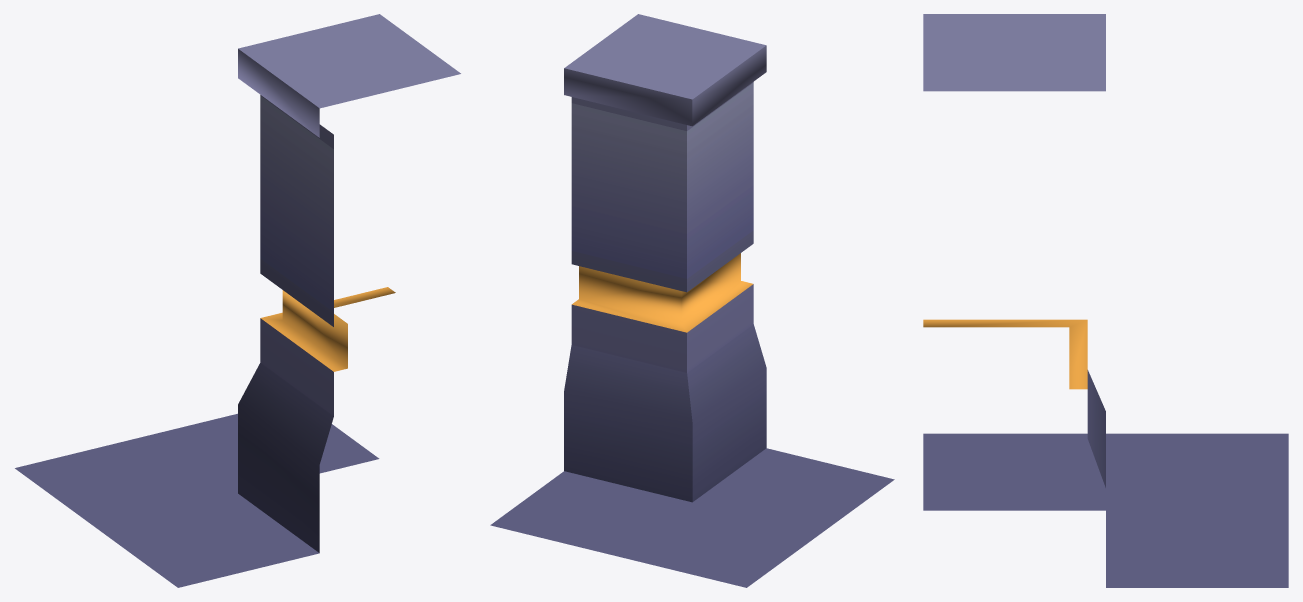
File: kenney-conveyor-structure-corner-outer.glb
The picture shows the model from 3 angles, left to right: view 1: azimuth 30°, elevation 25°; view 2: azimuth 150°, elevation 25°; view 3: azimuth 270°, elevation 25°; orthographic projection. The views are drawn at different scales.
Visible parts, largest first — view 1: structure-corner-outer; view 2: structure-corner-outer; view 3: structure-corner-outer.
Boxes of the visible parts, left/top/right/bottom form: structure-corner-outer: left=15, top=14, right=460, bottom=587; structure-corner-outer: left=490, top=14, right=894, bottom=587; structure-corner-outer: left=923, top=14, right=1288, bottom=587.
Bounding box in the file's own units: 2 × 3 × 2.
1 material, 1 textured.
